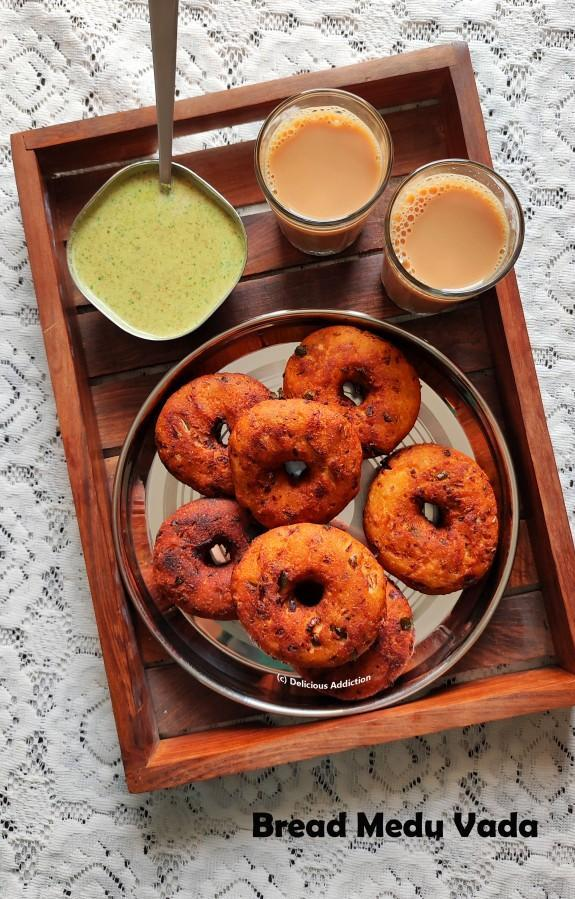mvada: (208, 398, 408, 657)
